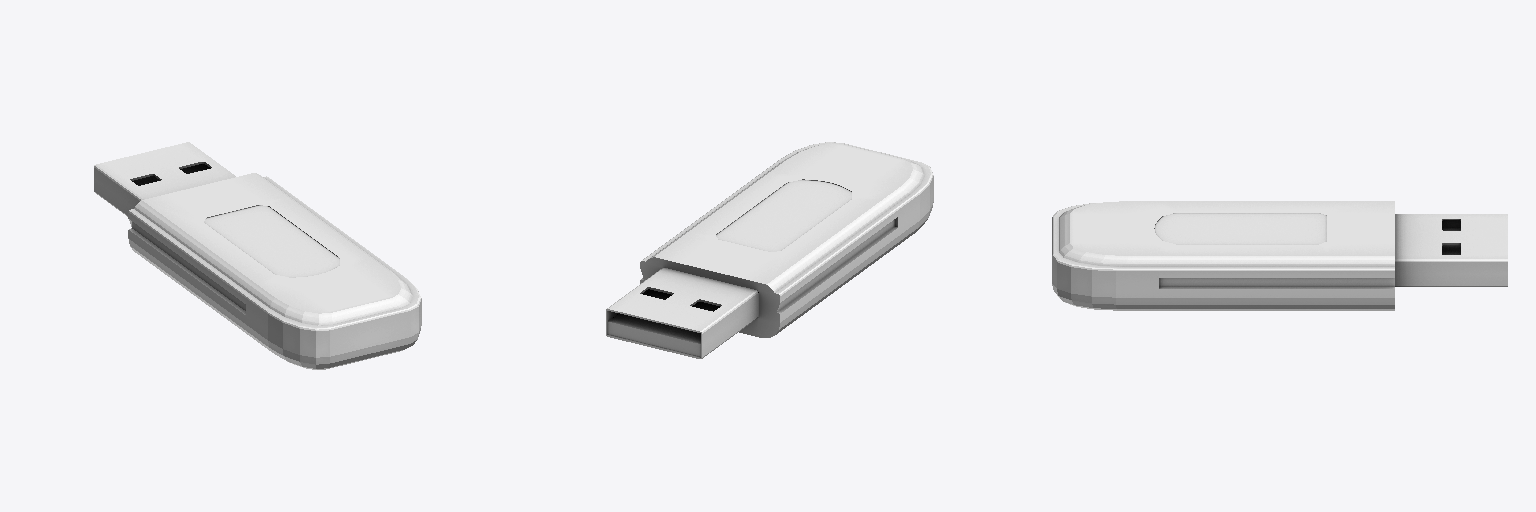
The picture shows the model from 3 angles: view 1: azimuth 30°, elevation 25°; view 2: azimuth 150°, elevation 25°; view 3: azimuth 270°, elevation 25°; orthographic projection.
Visible parts, largest first — view 1: Cube.002; view 2: Cube.002; view 3: Cube.002.
Part boxes in pixels (left/top/right/bottom): Cube.002: left=94, top=142, right=421, bottom=369; Cube.002: left=606, top=142, right=933, bottom=358; Cube.002: left=1052, top=201, right=1507, bottom=310.
Bounding box in the file's own units: 1.86 × 0.6971 × 5.26.
Materials: 1 (1 with a texture image).